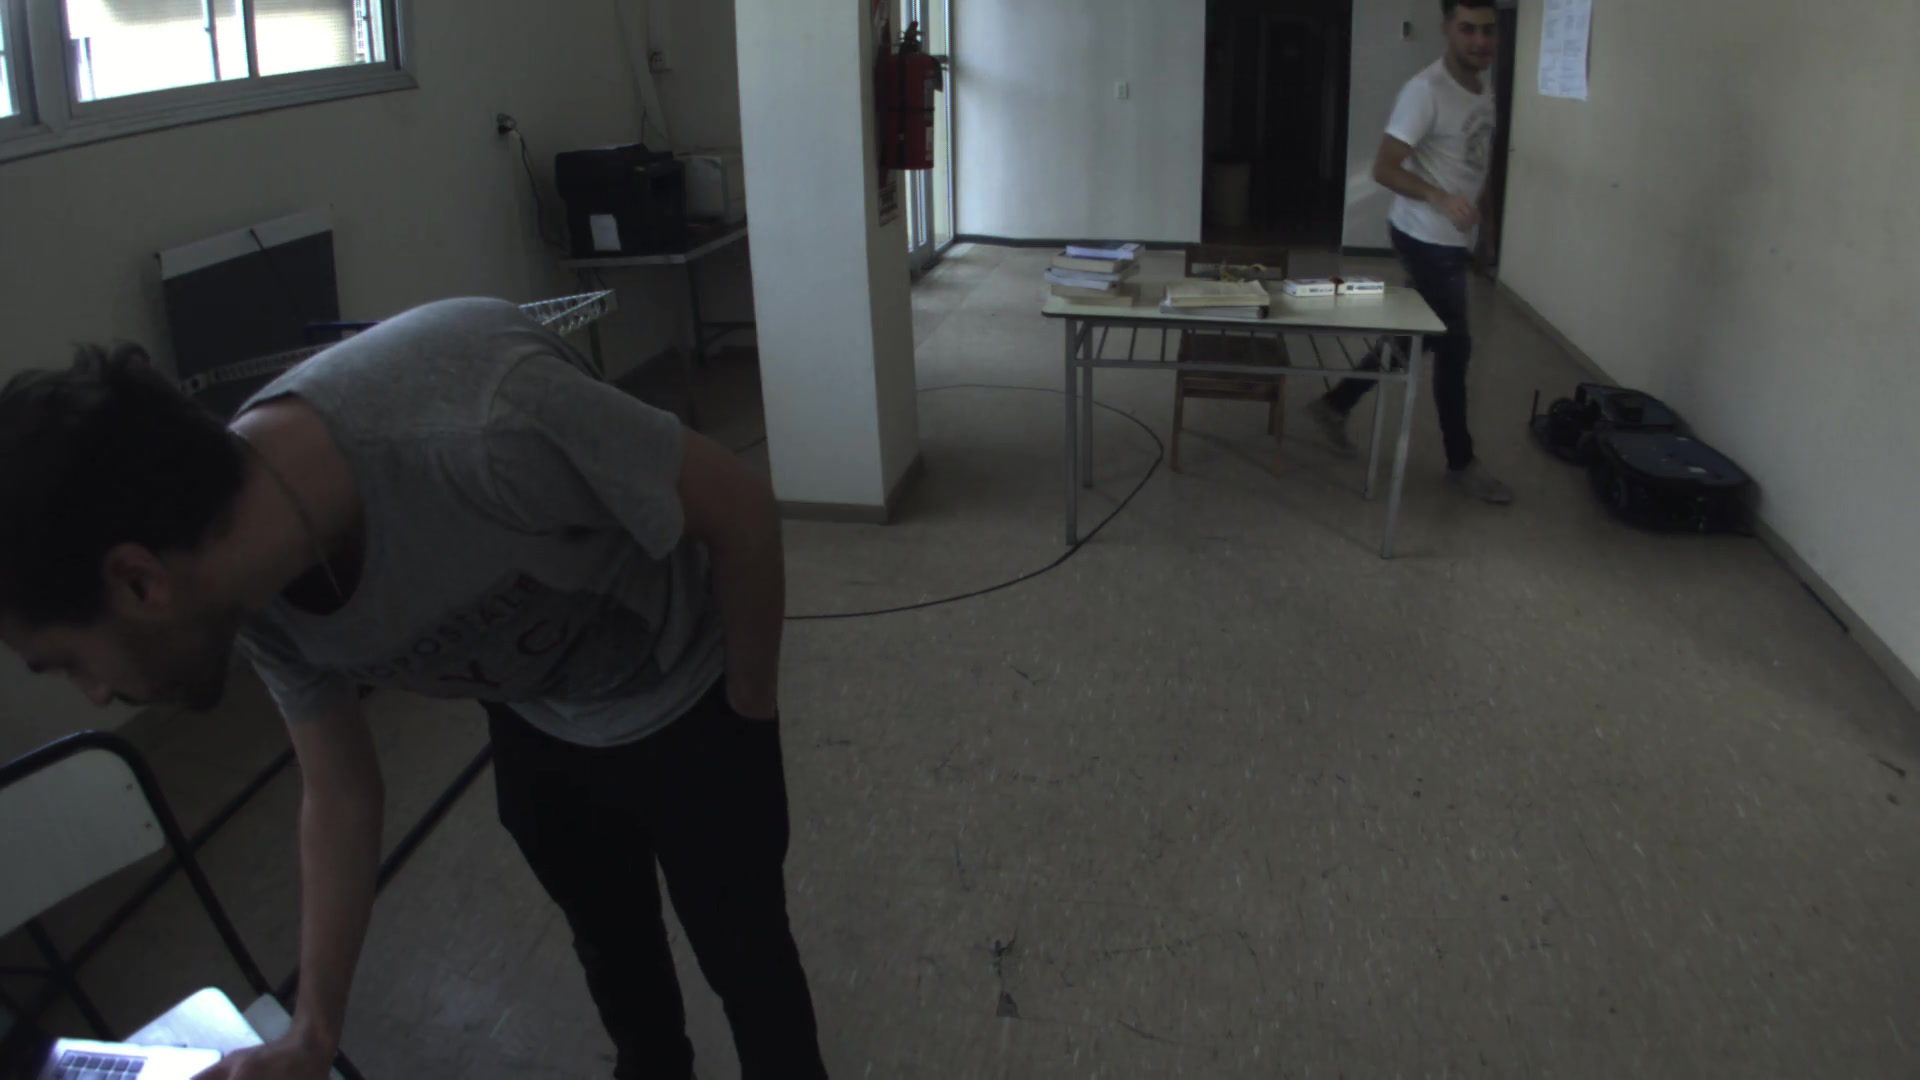hand: (1433, 185, 1484, 236)
